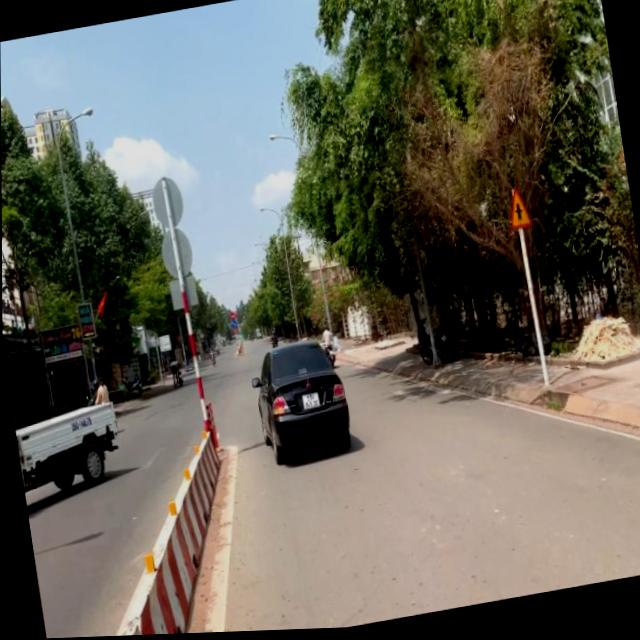Giao nhau voi duong khong uu tien: (504, 189, 533, 235)
